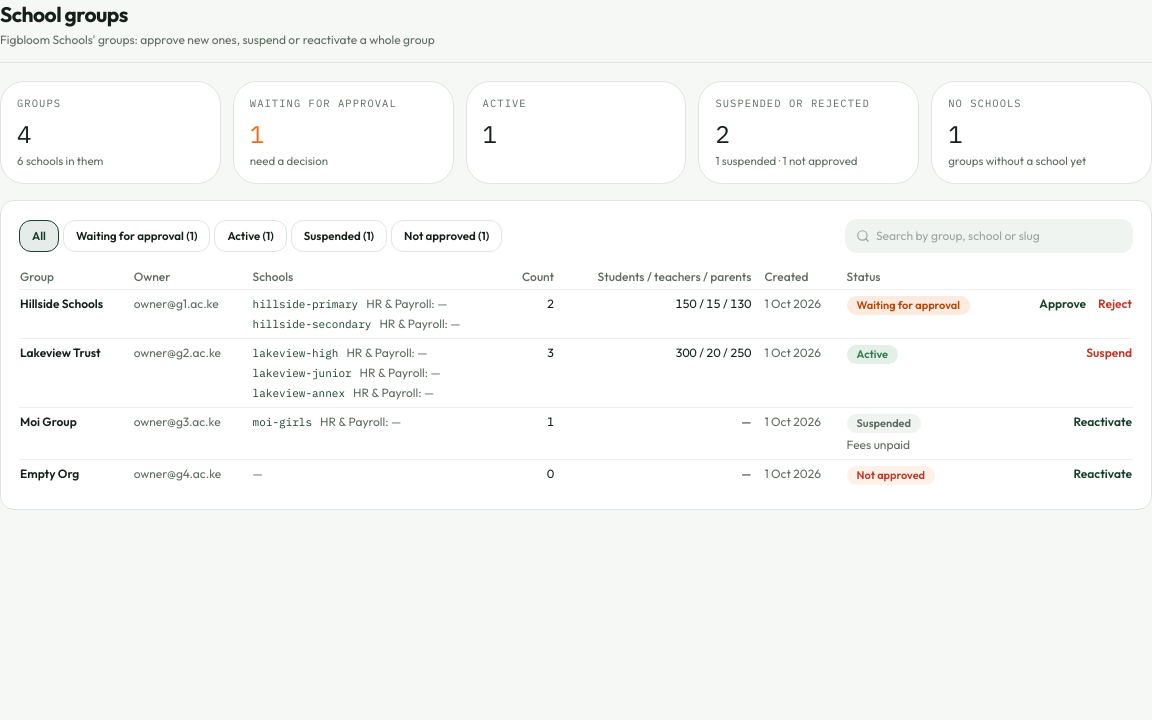
Test: the school groups page: decisions by role › reactivating says it restores the schools the group's suspension locked
Later steps or results of the test are not shown.
Click the button "Reactivate" in the row of "Moi Group": coordinates (1103, 422) [1074,414,1132,430]
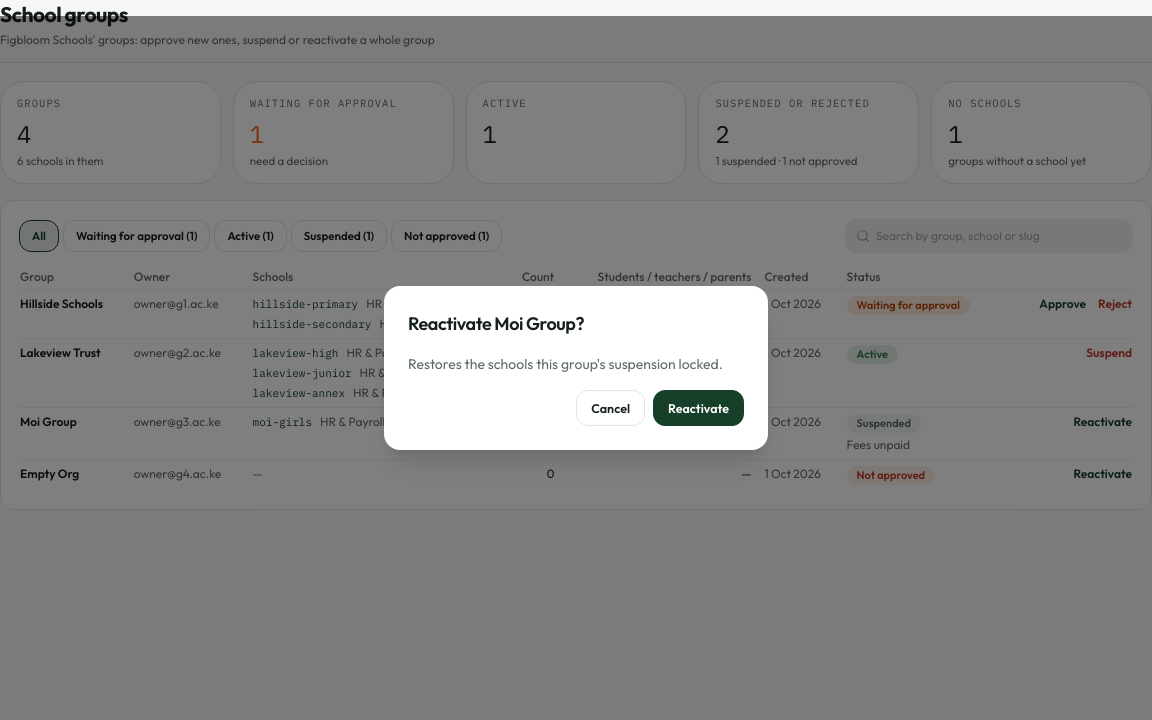
Check: the text "Restores the schools this group's suspension locked." is shown, box [408,354,744,374]
